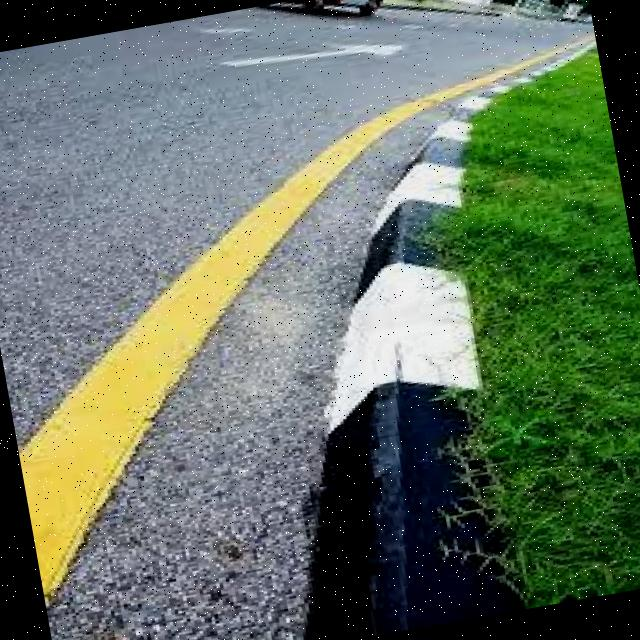curb: (267, 238, 539, 640), (331, 101, 512, 264)
